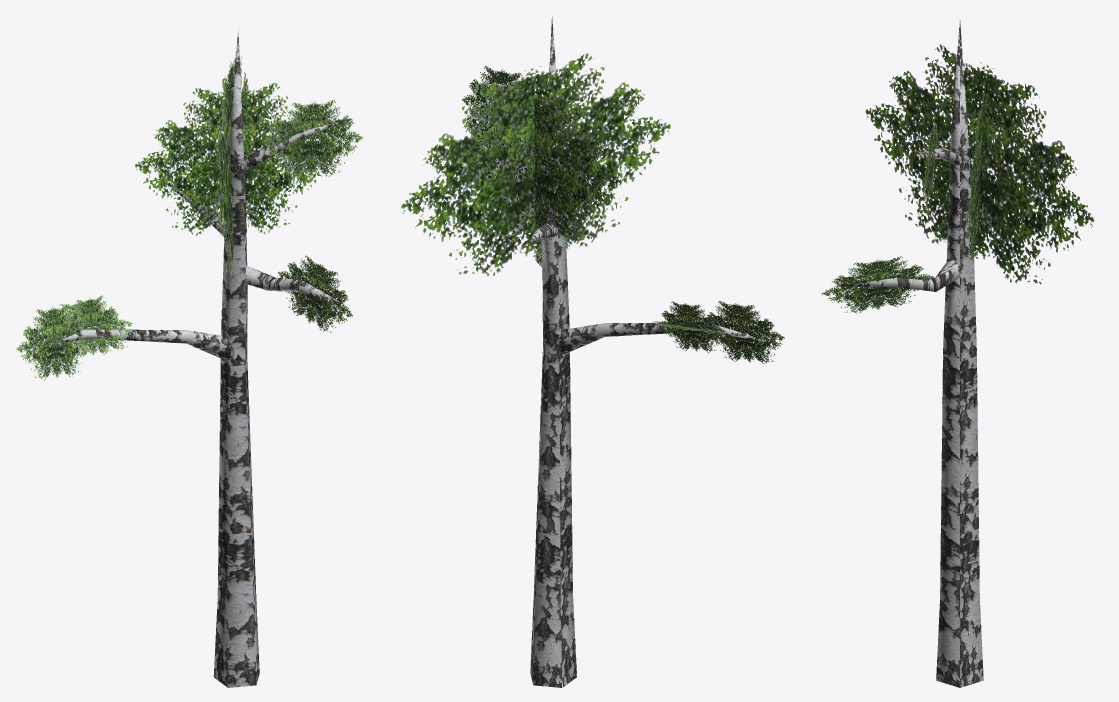
File: DEREVO.FBX
3 views of the same model, side by side, from view 1: azimuth 30°, elevation 25°; view 2: azimuth 150°, elevation 25°; view 3: azimuth 270°, elevation 25° (orthographic).
Parts seen in each view (by area): view 1: DEREVO; view 2: DEREVO; view 3: DEREVO.
Part boxes in pixels (x1=…): DEREVO: x1=16, y1=28, x2=362, y2=687; DEREVO: x1=401, y1=15, x2=784, y2=687; DEREVO: x1=821, y1=19, x2=1094, y2=687.
Size of the model in its own units: 378 by 697 by 272.
